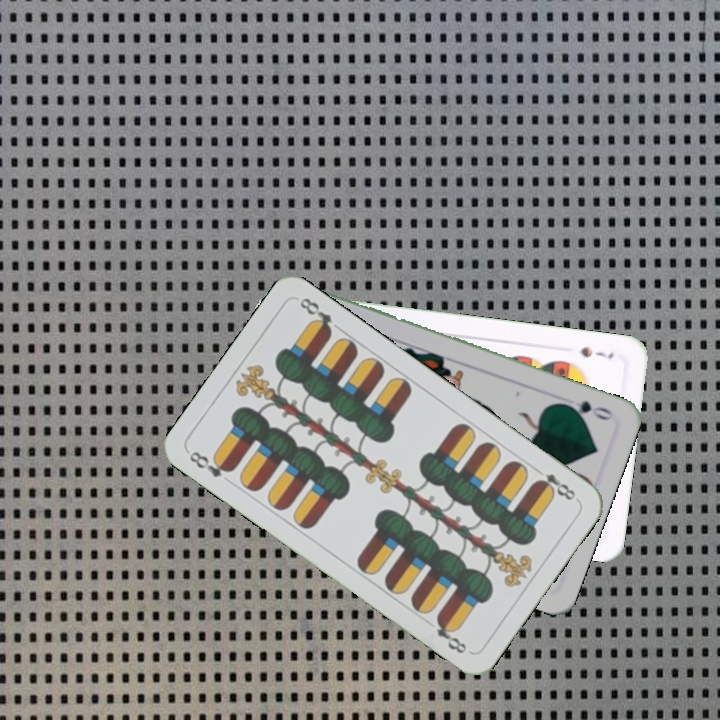E8: (530, 463, 578, 503), (185, 447, 237, 480)
GO: (557, 396, 615, 423)
S7: (576, 342, 616, 362)
